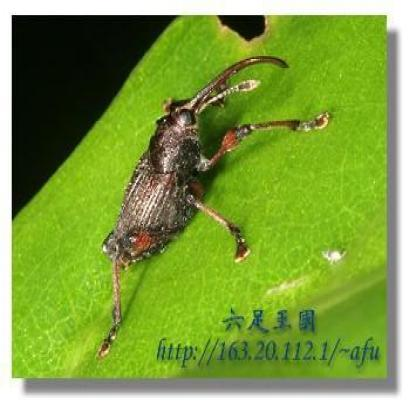rice-bug: (95, 53, 330, 357)
